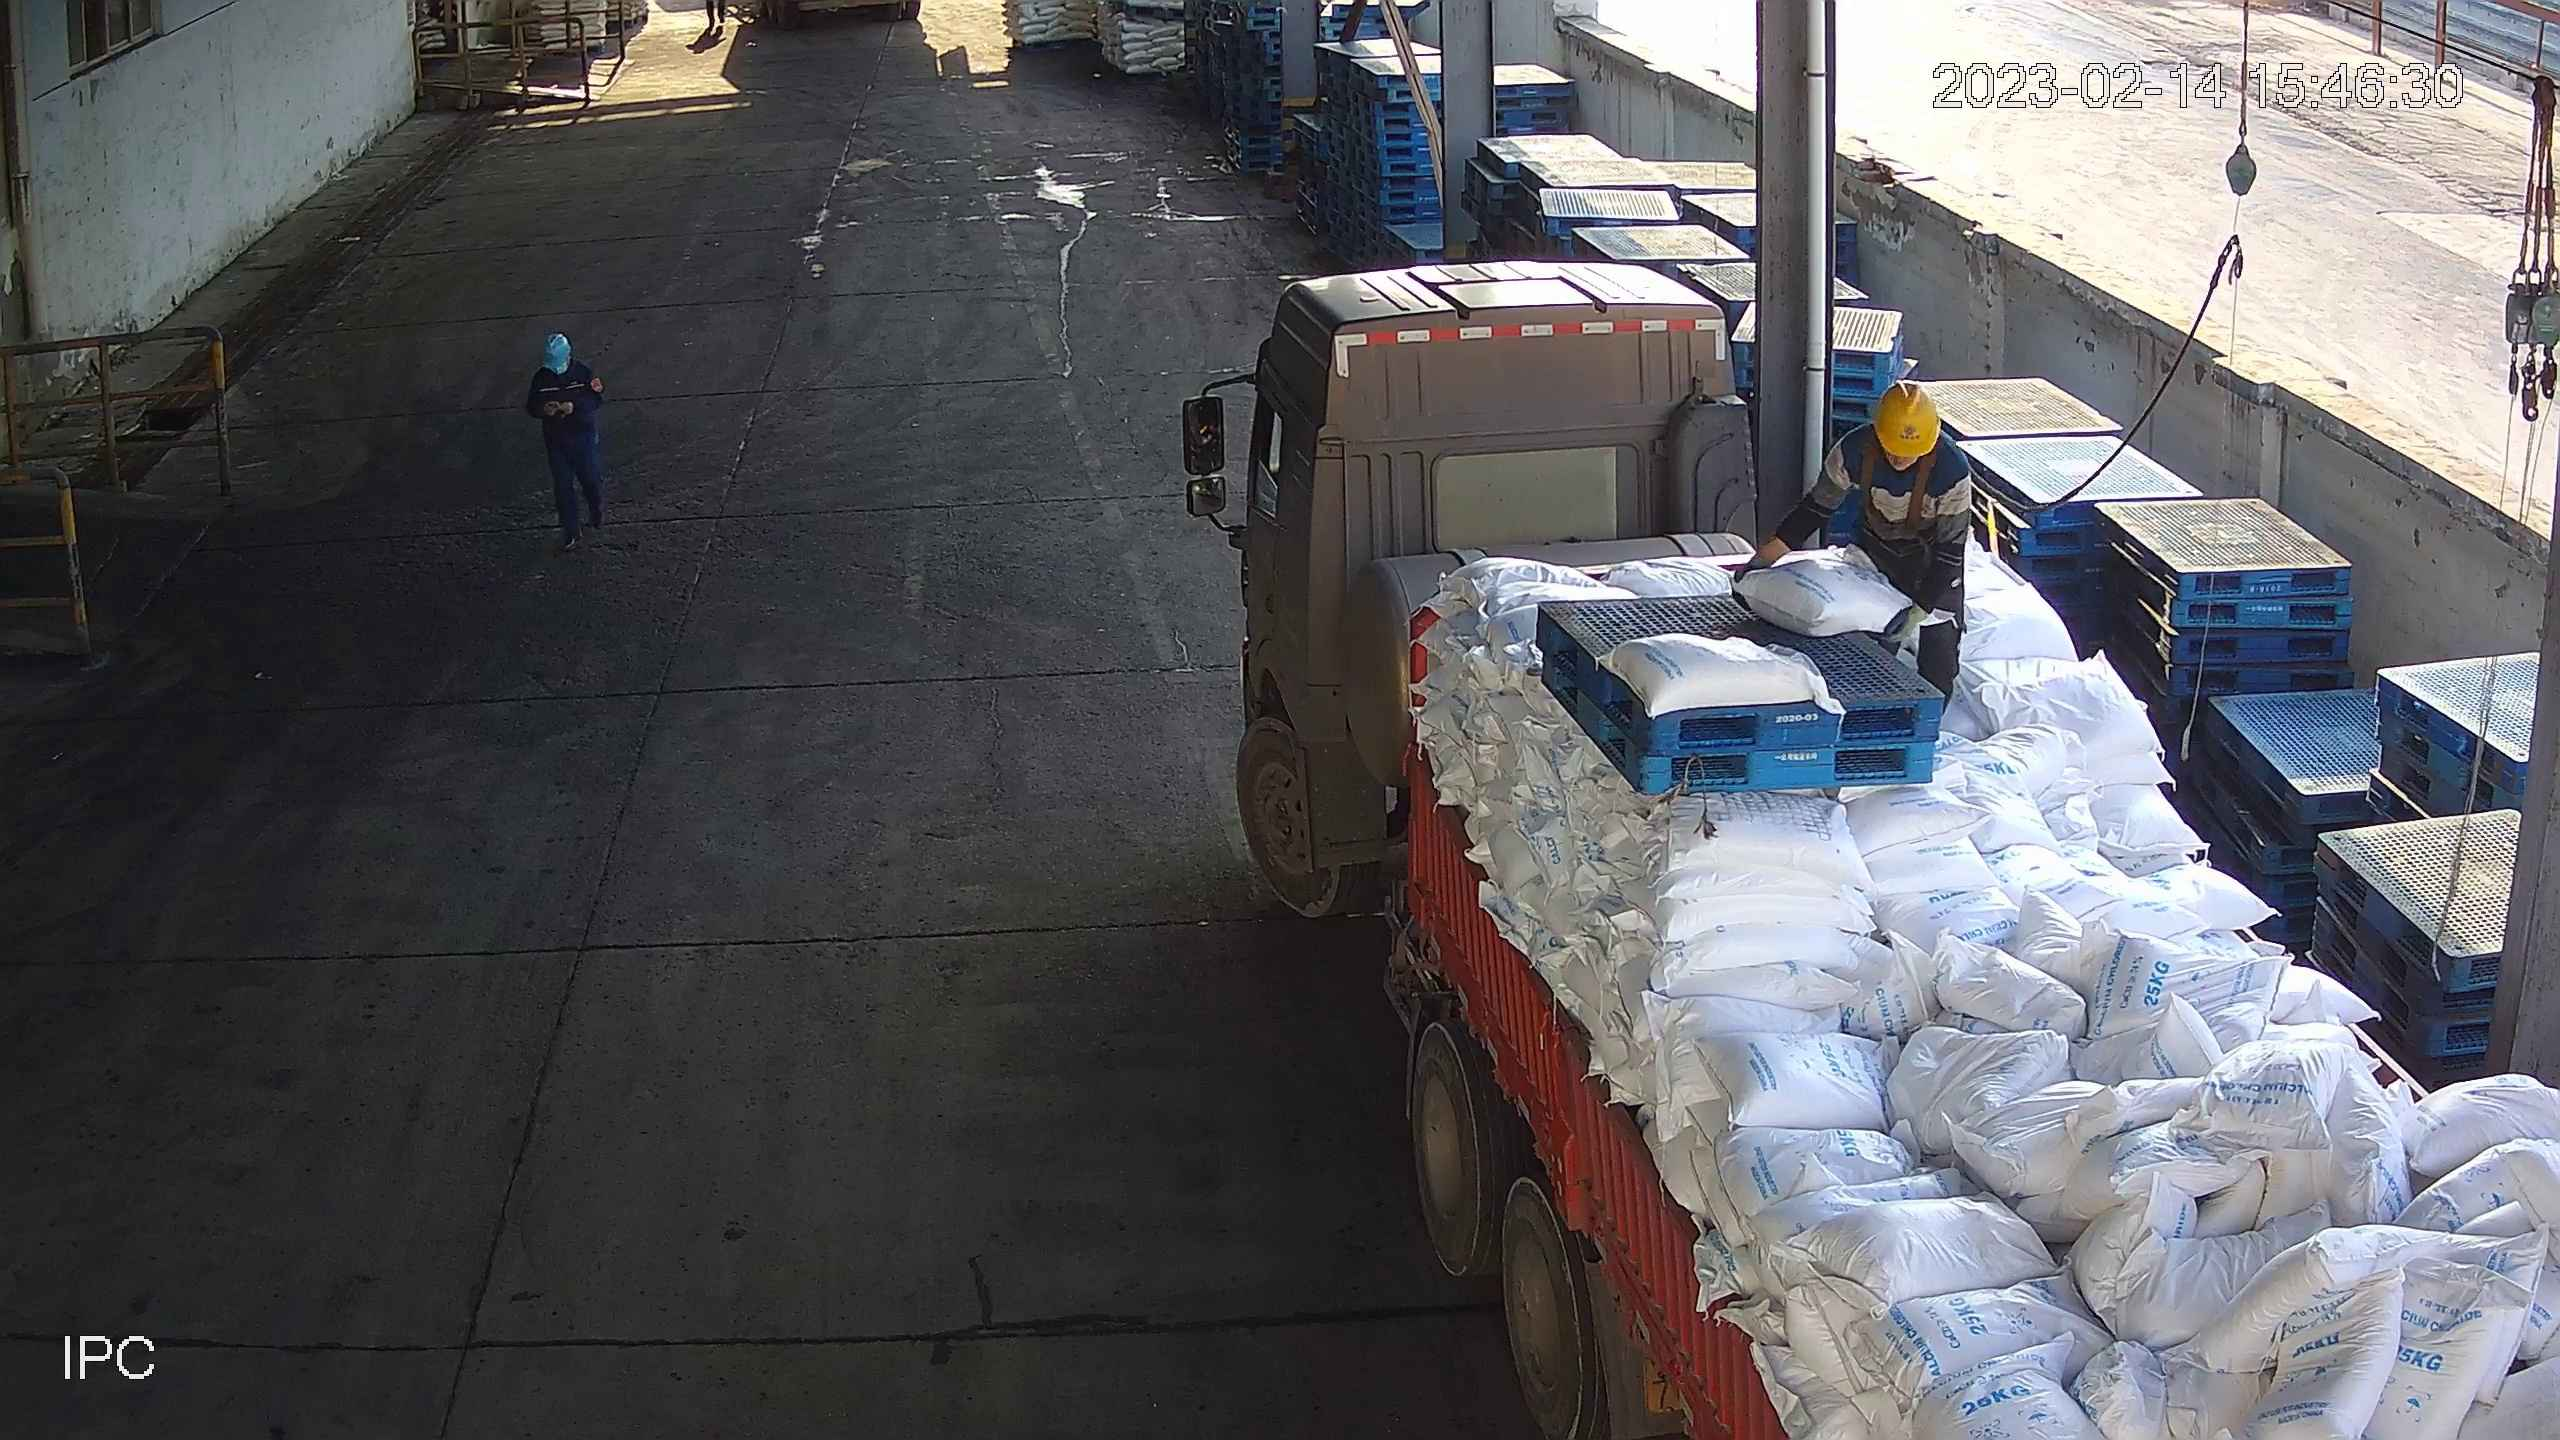belt: (1847, 423, 1991, 548)
head: (1825, 375, 1973, 496), (528, 329, 603, 389)
helmet: (1869, 376, 1943, 460), (537, 332, 573, 370)
people: (1737, 377, 1972, 737), (524, 328, 612, 554)
truck: (1225, 247, 2560, 1440)
